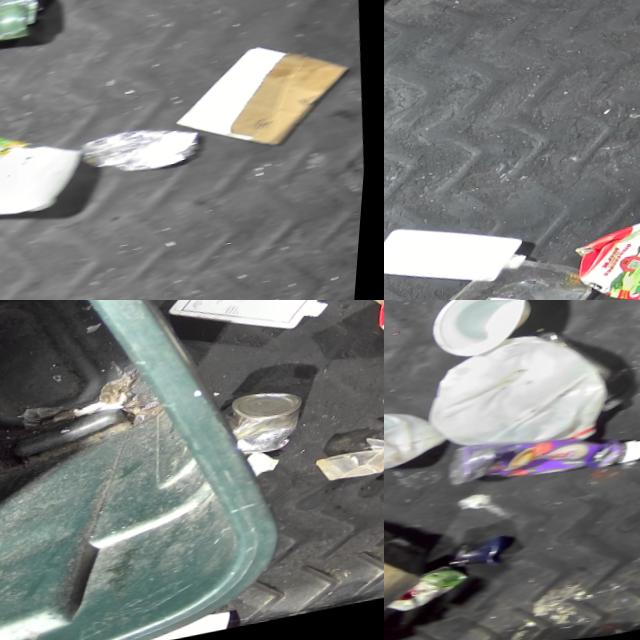can: (76, 113, 208, 193), (225, 392, 313, 468), (0, 0, 53, 61)
milk_jug: (416, 328, 621, 478), (384, 209, 539, 300), (0, 118, 93, 247), (384, 395, 446, 483)
non_white_jug: (566, 226, 640, 300)
